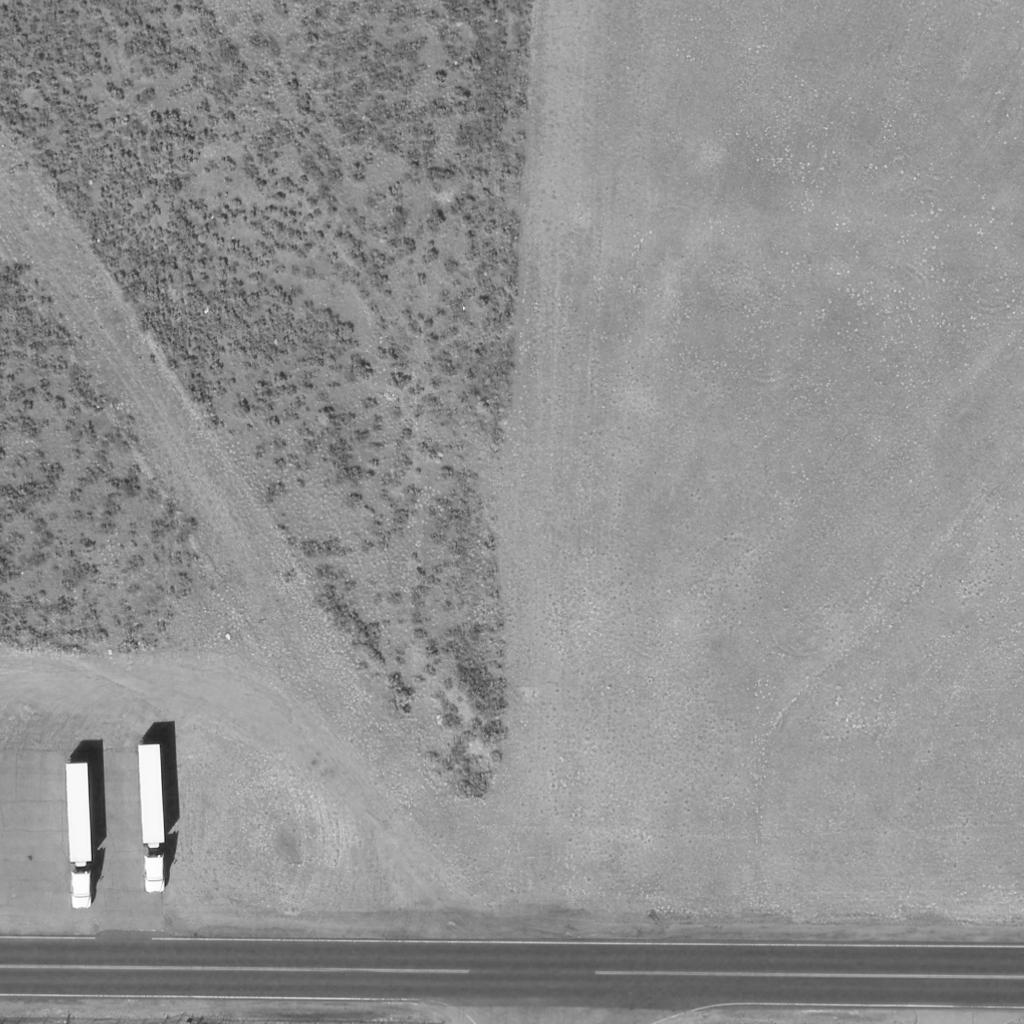vehicle: (65, 764, 95, 908), (139, 744, 167, 894)
